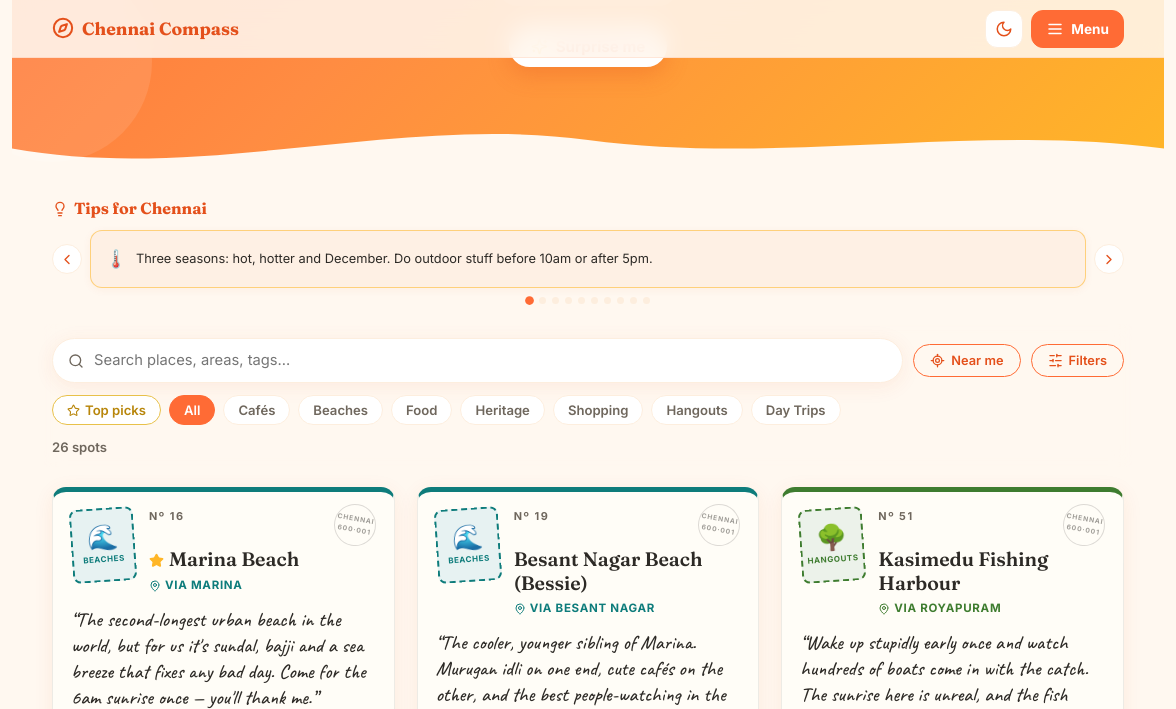
near me › shows "Location off" and keeps the full list when permission is denied
(page scrolled)
Click the button "Near me".
click(967, 361)  # box [913,344,1021,377]
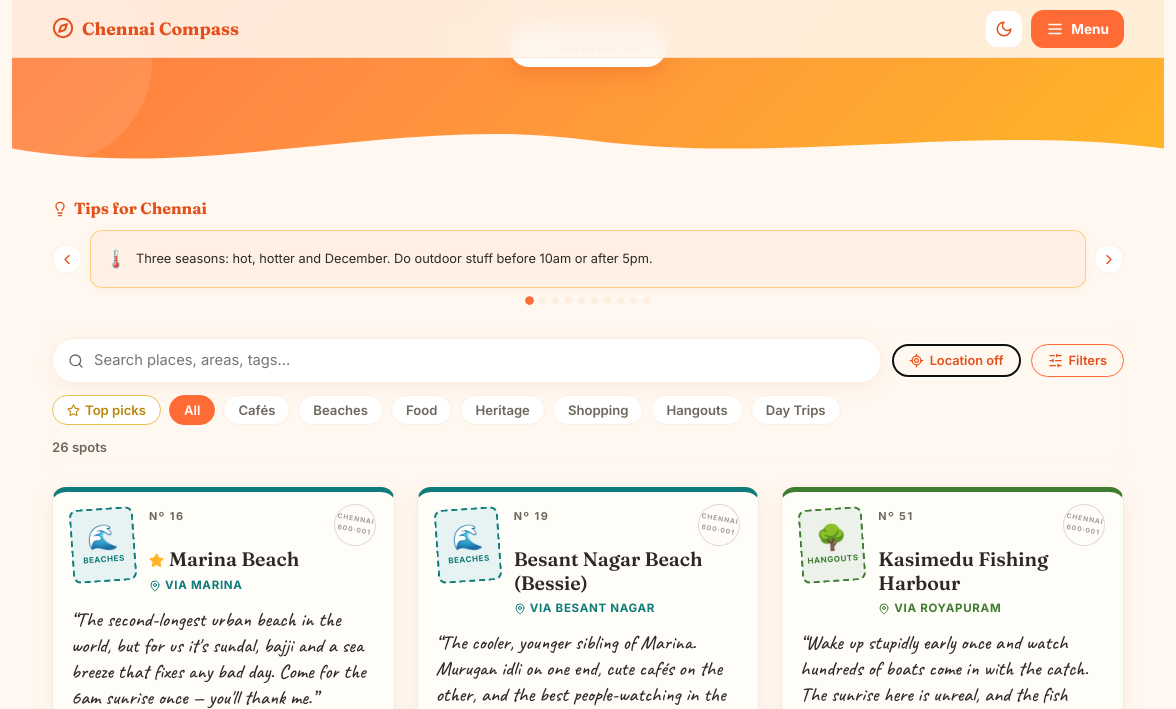
Expected: the heading "Marina Beach" is shown, [149,547,299,571]
Now the button "Location off" is shown, box [892,344,1020,377]
